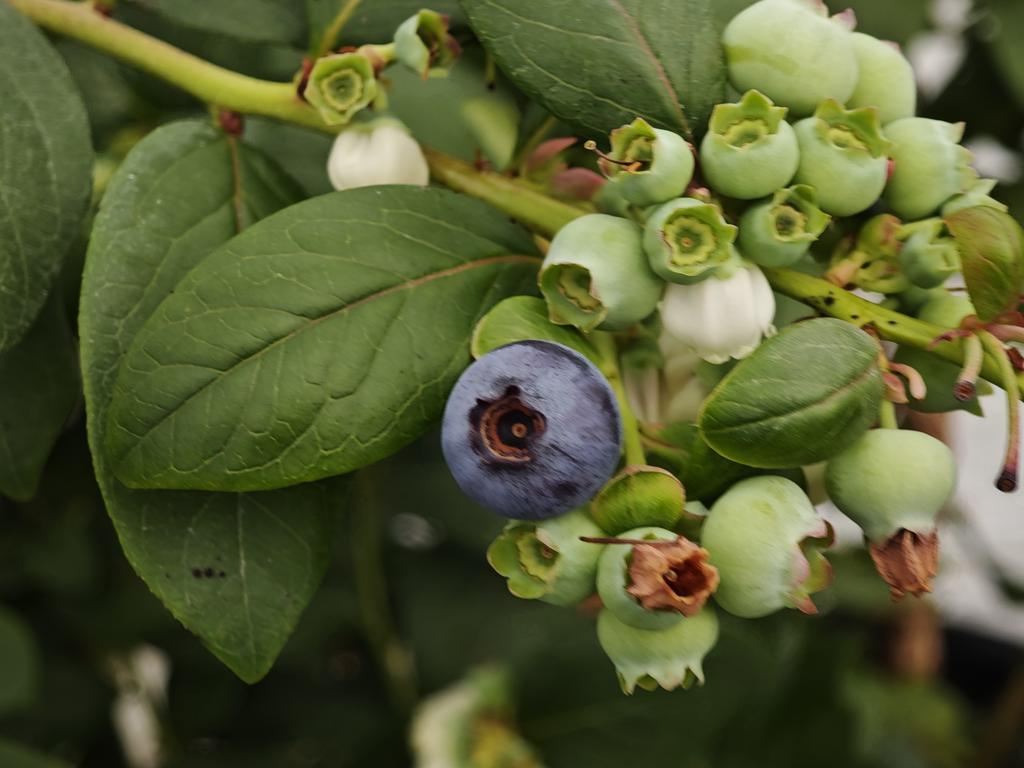RipeBlueBerry: (438, 337, 626, 523)
UnripeBlueBerry: (699, 474, 841, 621)
